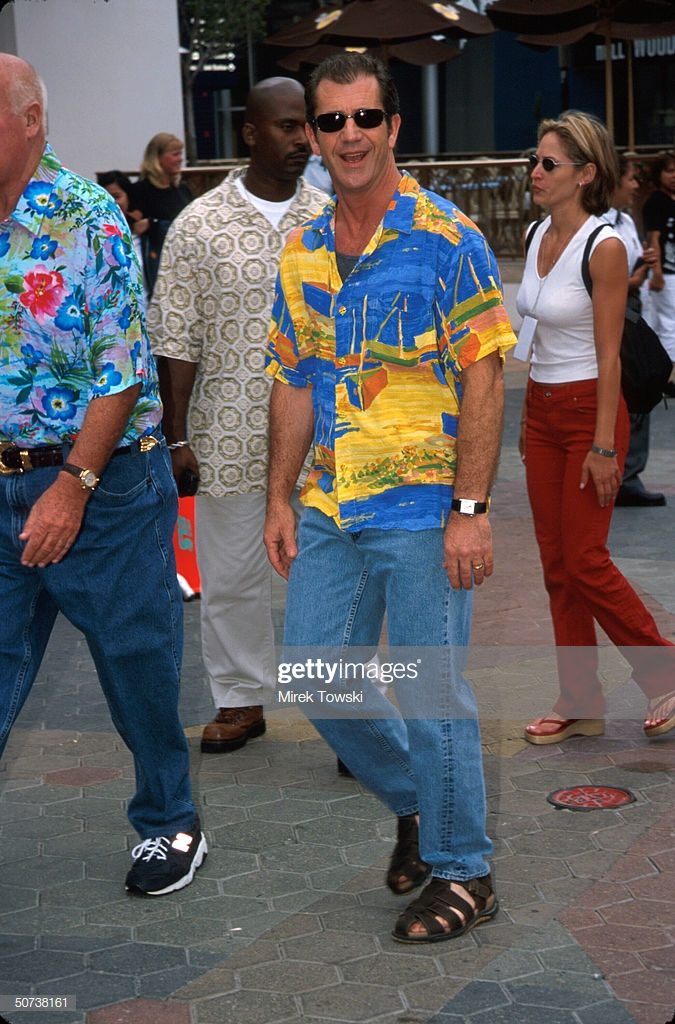jeans: (279, 490, 503, 866), (1, 448, 204, 816)
sunglasses: (285, 113, 386, 137), (525, 154, 572, 176)
